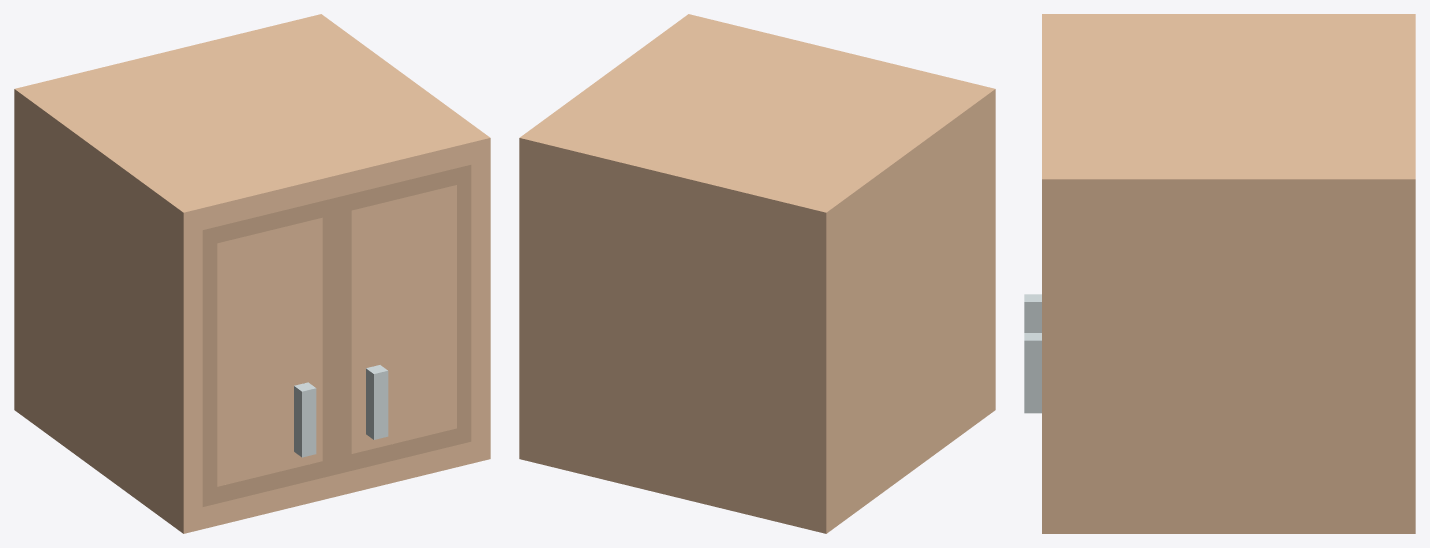
File: kn-kitchen-cabinet-upper-double.glb
The picture shows the model from 3 angles, left to right: view 1: azimuth 30°, elevation 25°; view 2: azimuth 150°, elevation 25°; view 3: azimuth 270°, elevation 25°; orthographic projection. The views are drawn at different scales.
Parts seen in each view (by area): view 1: kitchenCabinetUpperDouble(Clone), doorLeft; view 2: kitchenCabinetUpperDouble(Clone); view 3: kitchenCabinetUpperDouble(Clone), doorLeft.
Boxes of the visible parts, x1,y1,x2,y2 form: kitchenCabinetUpperDouble(Clone): [14, 14, 490, 533]; doorLeft: [202, 165, 471, 506]; kitchenCabinetUpperDouble(Clone): [519, 14, 995, 533]; kitchenCabinetUpperDouble(Clone): [1042, 14, 1415, 533]; doorLeft: [1024, 294, 1041, 413].
Bounding box in the file's own units: 1 × 1 × 1.
